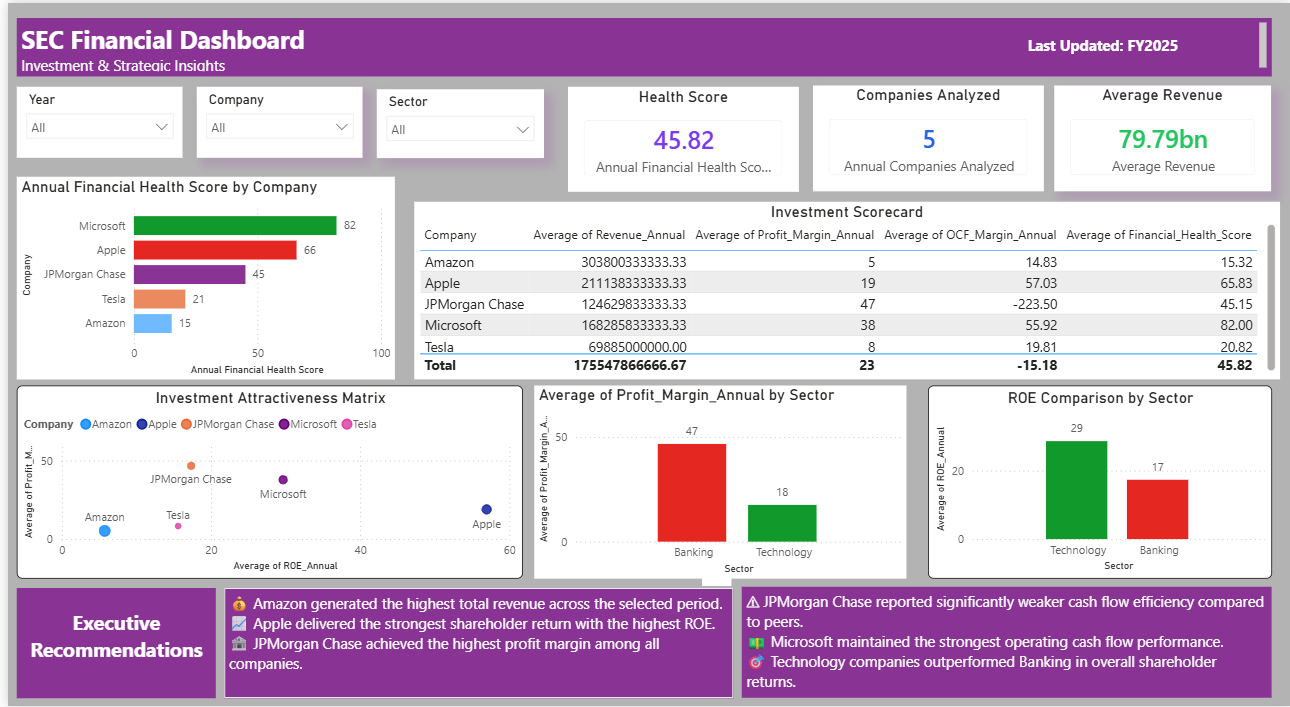

This screenshot's page, from the dashboard's own definition file:
{"tool":"powerbi","page":{"name":"Investment & Strategic Insights","canvas":[1386,760],"ordinal":3},"visuals":[{"type":"slicer","fields":{"Values":["SEC_Financials_Quarterly.Sector"]},"box":[398.7,93.6,180.8,74.4],"z":0},{"type":"cardVisual","title":"Health Score","fields":{"Data":["SEC_Annual_Summary.Annual Financial Health Score"]},"box":[604.9,90.4,249.6,113.3],"z":1000},{"type":"cardVisual","title":"Companies Analyzed","fields":{"Data":["SEC_Annual_Summary.Annual Companies Analyzed"]},"box":[869.8,89.1,249.6,114.6],"z":2000},{"type":"cardVisual","title":"Average Revenue","fields":{"Data":["SEC_Financials_Quarterly.Average Revenue"]},"box":[1130.8,89.1,234.3,114.6],"z":3000},{"type":"scatterChart","title":"Investment Attractiveness Matrix","fields":{"X":["Avg(SEC_Annual_Summary.ROE_Annual)"],"Y":["Avg(SEC_Annual_Summary.Profit_Margin_Annual)"],"Series":["SEC_Annual_Summary.Company"],"Size":["Avg(SEC_Annual_Summary.Revenue_Annual)"]},"box":[8.9,413.9,547.6,208.8],"z":4000},{"type":"clusteredColumnChart","title":"ROE Comparison by Sector","fields":{"Category":["SEC_Annual_Summary.Sector"],"Y":["Avg(SEC_Annual_Summary.ROE_Annual)"]},"box":[994.6,413.9,371.9,208.8],"z":5000},{"type":"tableEx","title":"Investment Scorecard","fields":{"Values":["SEC_Annual_Summary.Company","Avg(SEC_Annual_Summary.Revenue_Annual)","Avg(SEC_Annual_Summary.Profit_Margin_Annual)","Avg(SEC_Annual_Summary.OCF_Margin_Annual)","Avg(SEC_Annual_Summary.Financial_Health_Score)"]},"box":[439.3,215.2,936,192.3],"z":6000},{"type":"slicer","fields":{"Values":["SEC_Financials_Quarterly.Company"]},"box":[203.8,91,179.5,76.9],"z":7000},{"type":"slicer","fields":{"Values":["DateTable.Year"]},"box":[9,91,179.5,76.9],"z":8000},{"type":"textbox","box":[9,16.7,1356.4,62.8],"z":9000},{"type":"textbox","box":[1084.6,29.5,197.4,32.1],"z":10000},{"type":"textbox","box":[233.3,632.1,550,119.2],"z":11000},{"type":"clusteredColumnChart","fields":{"Category":["SEC_Annual_Summary.Sector"],"Y":["Avg(SEC_Annual_Summary.Profit_Margin_Annual)"]},"box":[569.2,413.9,402.4,208.8],"z":12000},{"type":"textbox","box":[793.4,631.6,573.1,119.7],"z":13000},{"type":"textbox","box":[9,632.1,215.4,119.2],"z":14000},{"type":"clusteredBarChart","fields":{"Category":["SEC_Annual_Summary.Company"],"Y":["SEC_Annual_Summary.Annual Financial Health Score"]},"box":[9,187.2,409,219.2],"z":15000}]}

Visuals, with their boxes in screenshot pixels (x1, y1, x2, y2), scaled from the page's 1386x760 canvas onto the 1290x707 screenshot:
slicer - SEC_Financials_Quarterly.Sector: 371 87 539 156
"Health Score" cardVisual: 563 84 795 189
"Companies Analyzed" cardVisual: 810 83 1042 189
"Average Revenue" cardVisual: 1052 83 1271 189
"Investment Attractiveness Matrix" scatterChart: 8 385 518 579
"ROE Comparison by Sector" clusteredColumnChart: 926 385 1272 579
"Investment Scorecard" tableEx: 409 200 1280 379
slicer - SEC_Financials_Quarterly.Company: 190 85 357 156
slicer - DateTable.Year: 8 85 175 156
textbox: 8 16 1271 74
textbox: 1009 27 1193 57
textbox: 217 588 729 699
clusteredColumnChart - SEC_Annual_Summary.Sector x Avg(SEC_Annual_Summary.Profit_Margin_Annual): 530 385 904 579
textbox: 738 588 1272 699
textbox: 8 588 209 699
clusteredBarChart - SEC_Annual_Summary.Company x SEC_Annual_Summary.Annual Financial Health Score: 8 174 389 378
